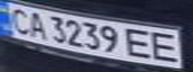2: (63, 17, 84, 48)
3: (78, 20, 103, 52), (45, 14, 69, 45)
9: (100, 22, 124, 55)
A: (24, 9, 48, 39)
C: (3, 4, 33, 36)
E: (148, 29, 187, 63), (124, 26, 157, 60)
